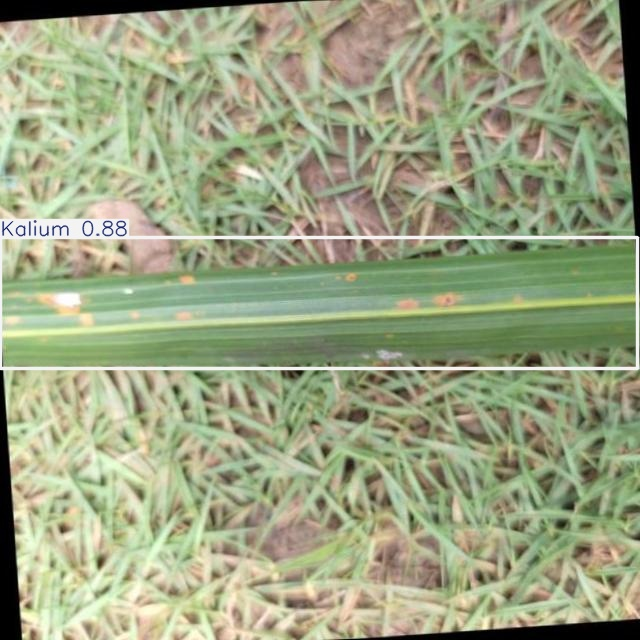Kalium: (0, 238, 637, 369)
